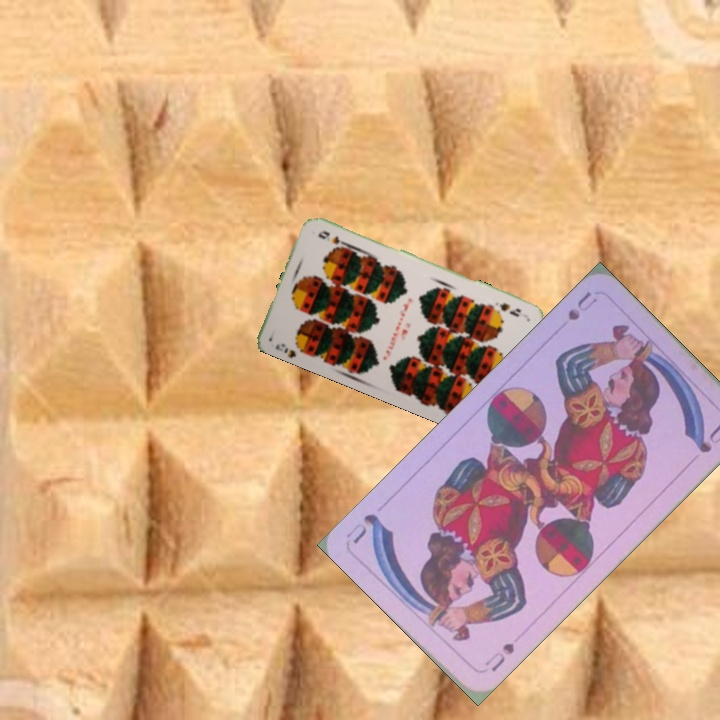S9: (491, 298, 524, 320), (271, 339, 308, 357)
SU: (480, 638, 518, 675), (563, 287, 600, 323)
